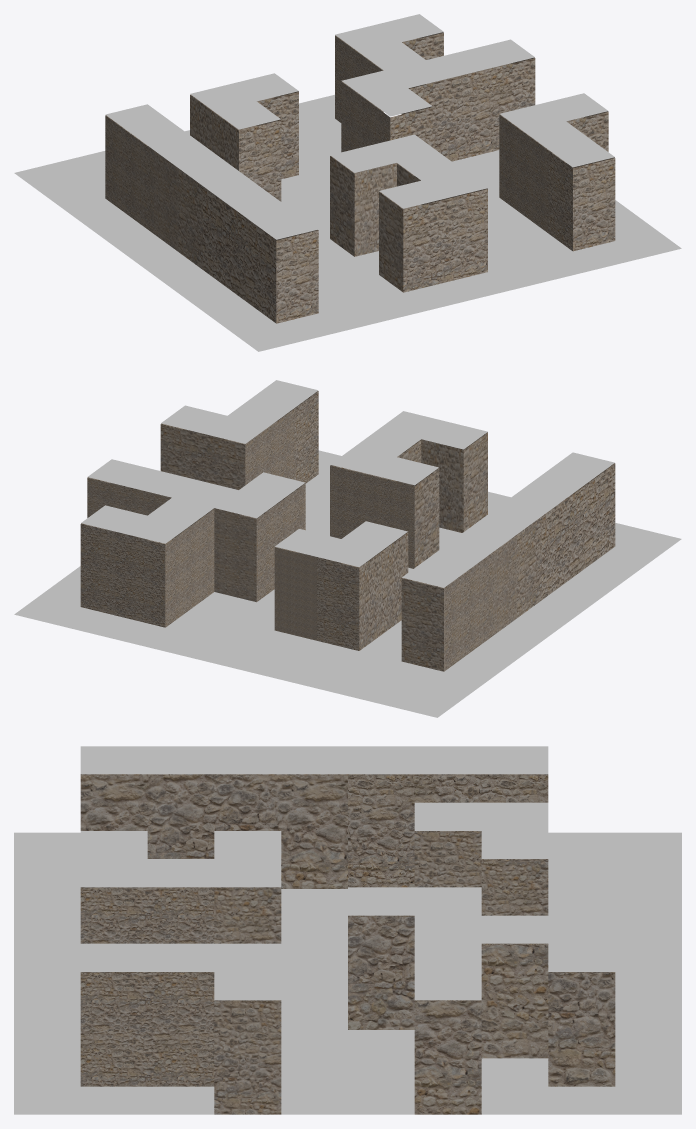
Rendered from mazeTileNewZ.fbx.
3 views of the same model, one above another, from view 1: azimuth 30°, elevation 25°; view 2: azimuth 150°, elevation 25°; view 3: azimuth 270°, elevation 25° (orthographic). The views are drawn at different scales.
Visible parts, largest first — view 1: Walls, Floor, Roof; view 2: Walls, Floor, Roof; view 3: Walls, Floor, Roof.
Part boxes in pixels (x1=…): Walls: x1=105, y1=32, x2=615, y2=323; Floor: x1=14, y1=94, x2=681, y2=351; Roof: x1=105, y1=14, x2=614, y2=239; Walls: x1=80, y1=391, x2=615, y2=671; Floor: x1=14, y1=450, x2=681, y2=717; Roof: x1=81, y1=380, x2=614, y2=587; Walls: x1=80, y1=774, x2=615, y2=1114; Floor: x1=14, y1=832, x2=681, y2=1114; Roof: x1=80, y1=746, x2=615, y2=1000.
Bounding box in the file's own units: 1600 × 303 × 1600.
